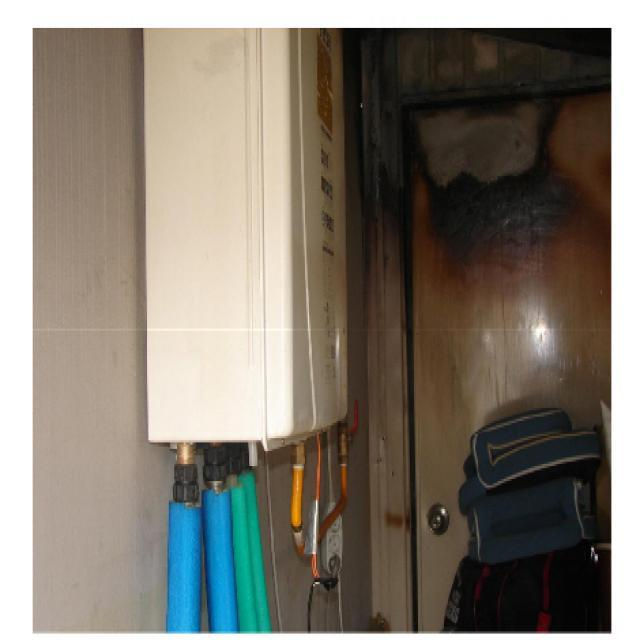Boiler: (121, 31, 387, 483)
